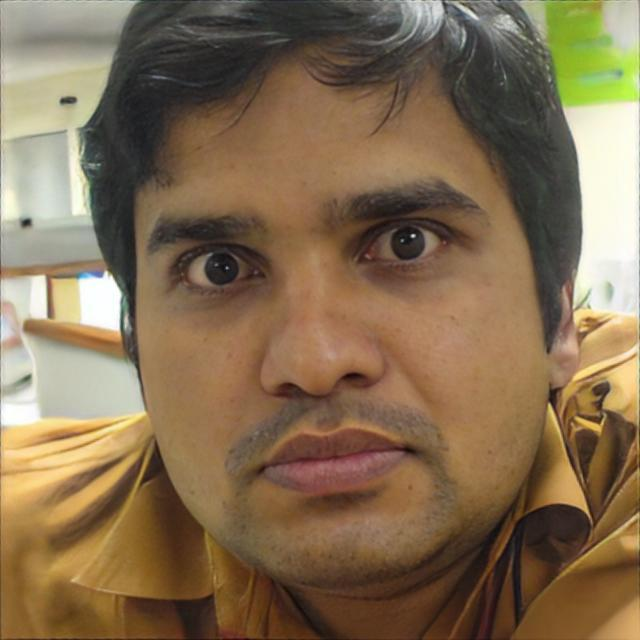fear: (132, 41, 544, 588)
